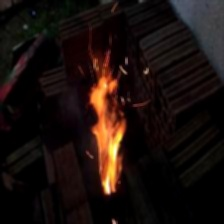fire: (74, 53, 154, 209)
